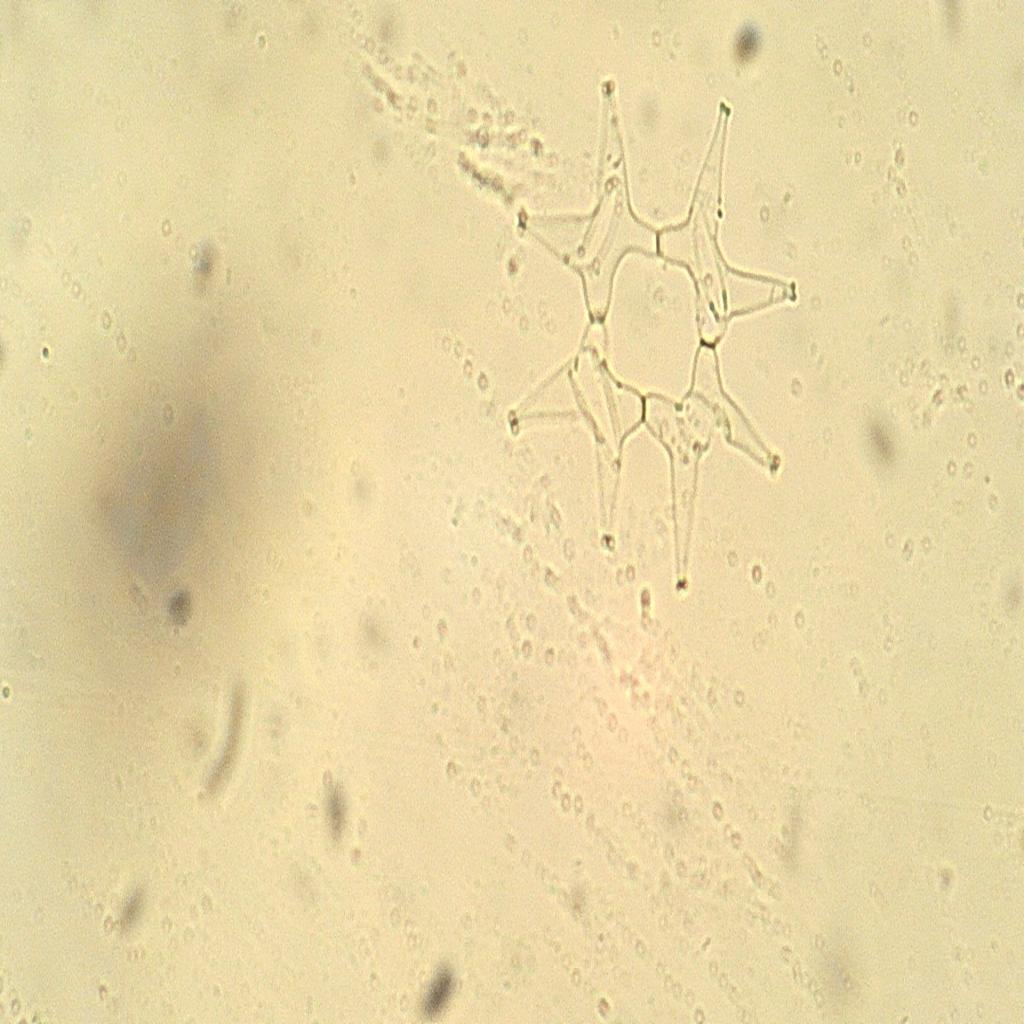Pediastrum_75TH: (491, 57, 832, 619)
